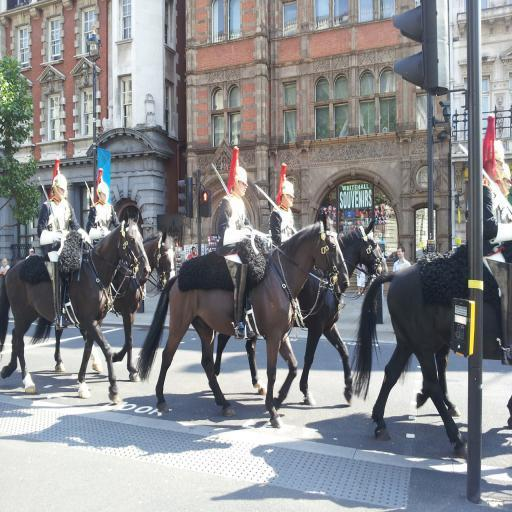horse: (132, 210, 349, 427), (347, 240, 511, 460), (214, 216, 388, 404), (0, 216, 154, 404), (28, 228, 178, 382), (413, 349, 512, 429)
